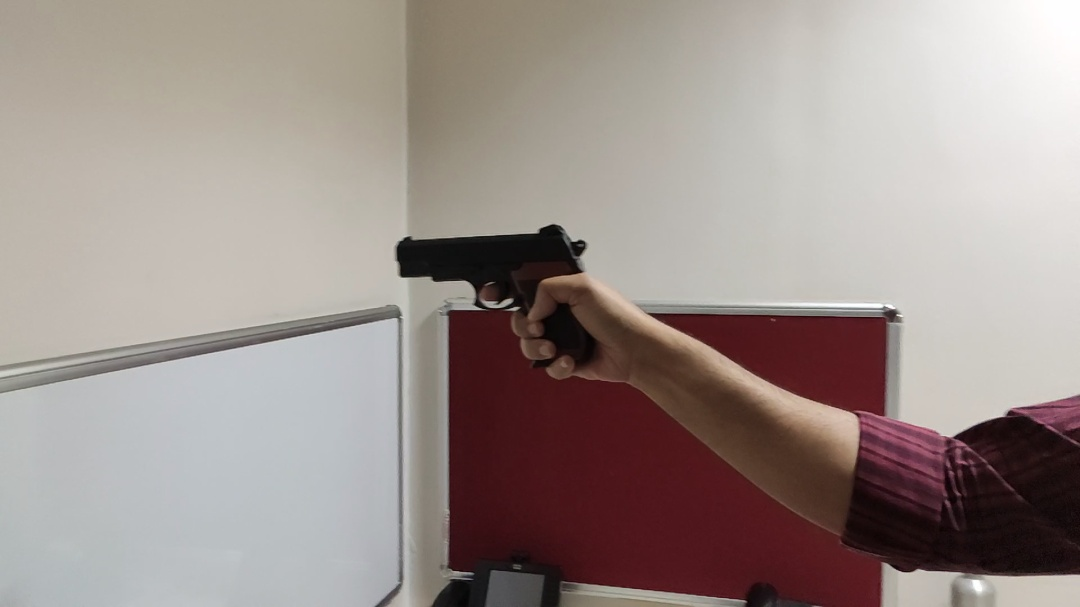gun: (395, 223, 602, 371)
